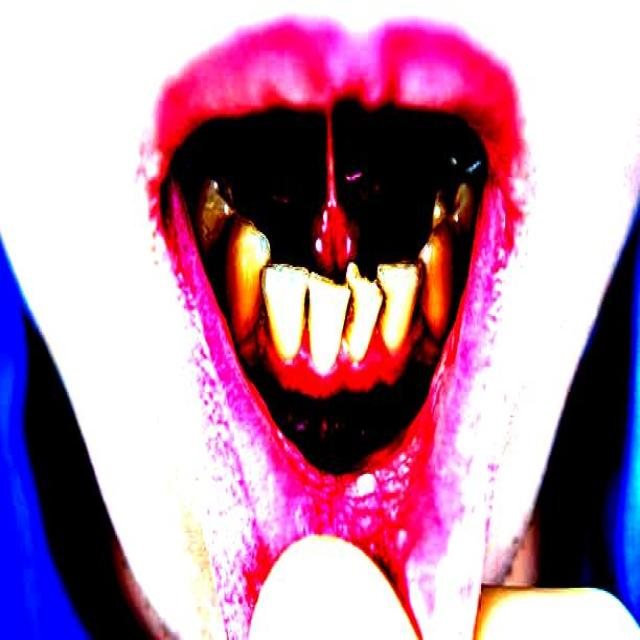caries: (338, 288, 363, 327), (372, 278, 390, 314), (297, 284, 313, 318)
